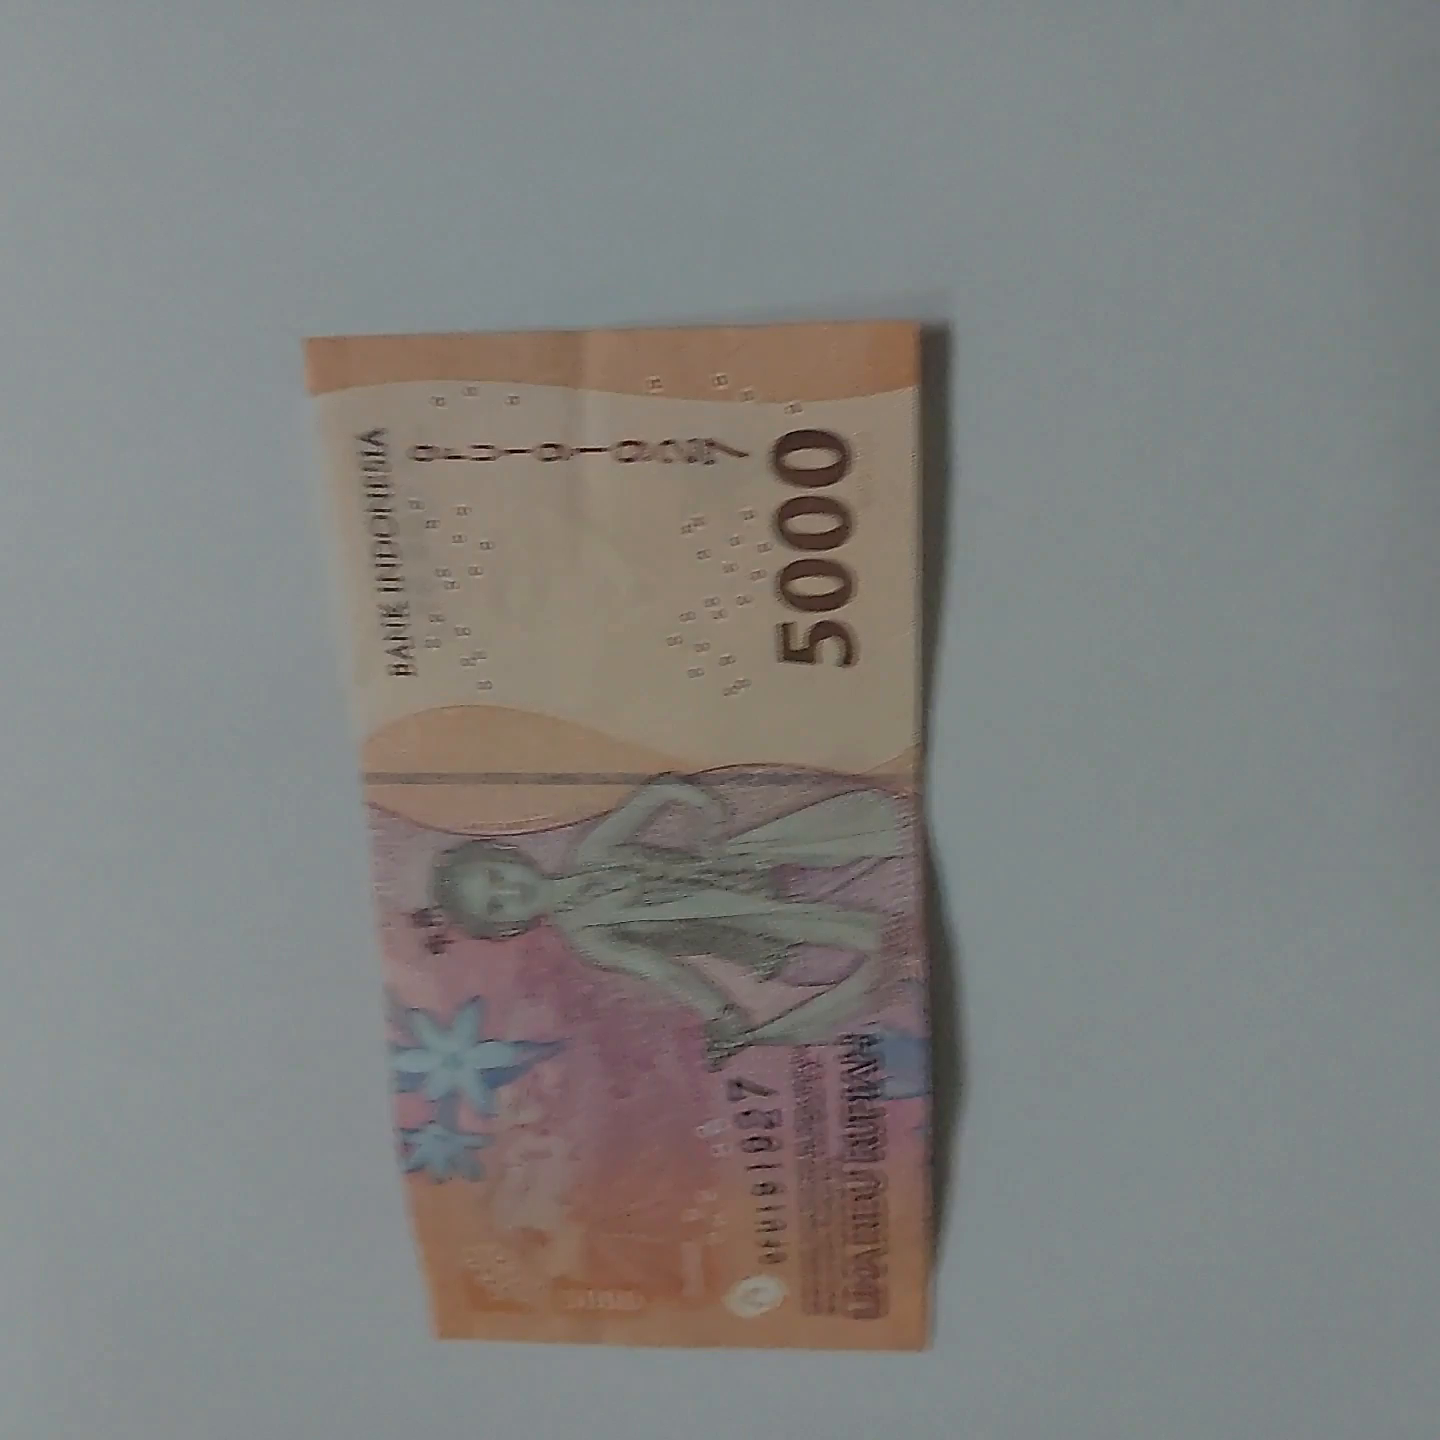5k: (219, 273, 961, 1385)
